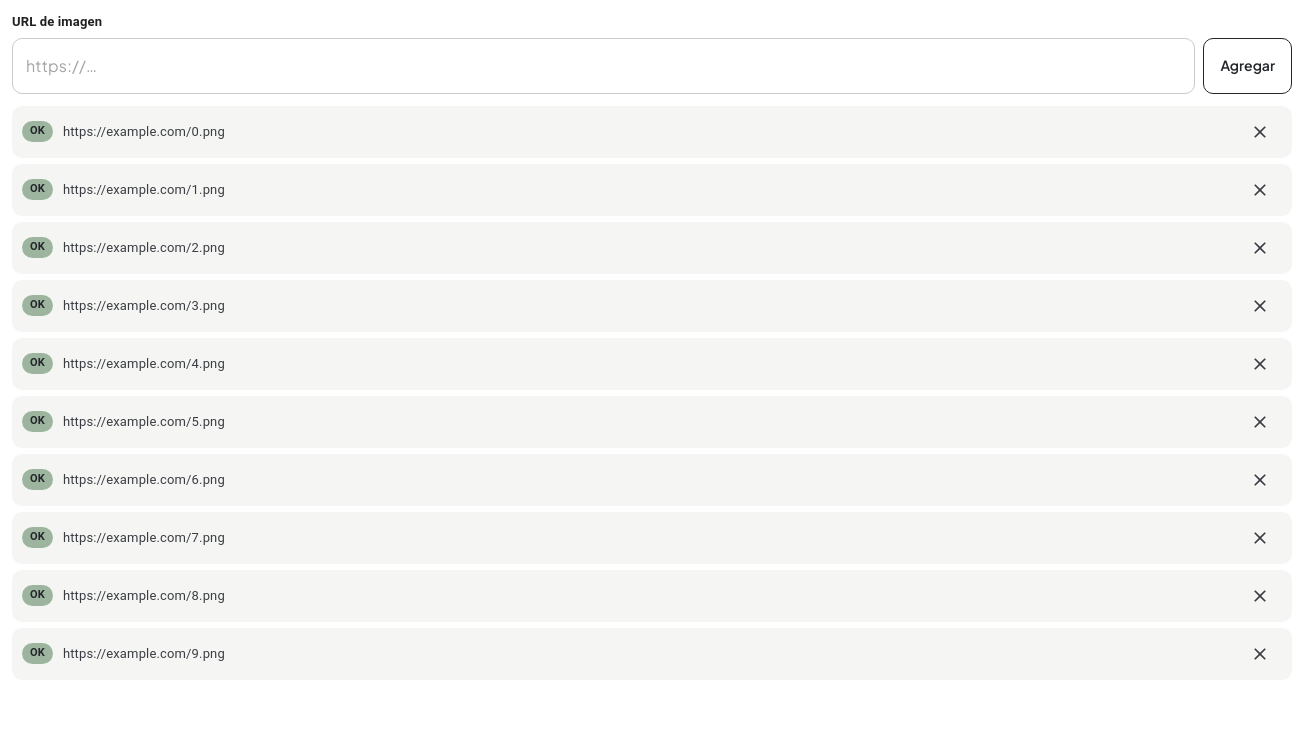
Test: ImageUrlsField › rejects an eleventh url
The image size is (1304, 732).
Type "https://example.com/extra.png" into the field labelled "URL de imagen" at {"x": 604, "y": 66}, box [12,38,1195,94]
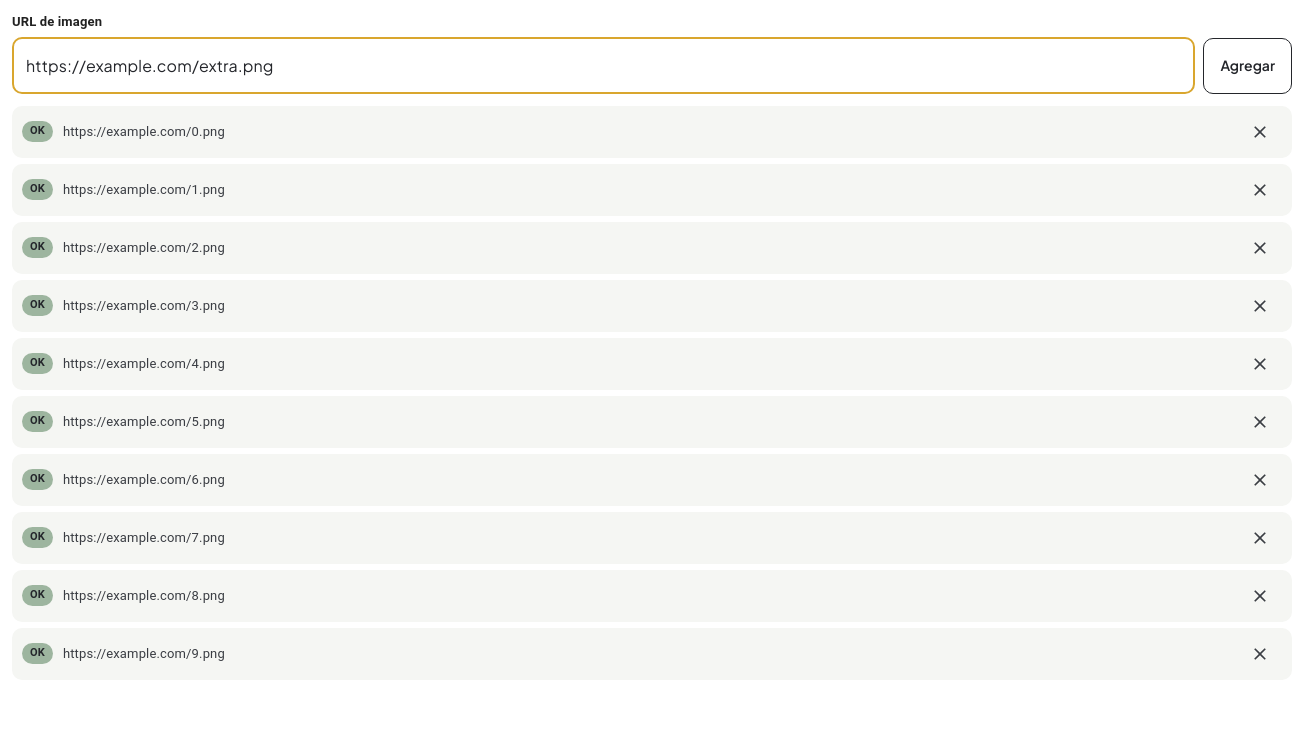
Click the button "Agregar" at {"x": 1248, "y": 66}, box [1203,38,1292,94]
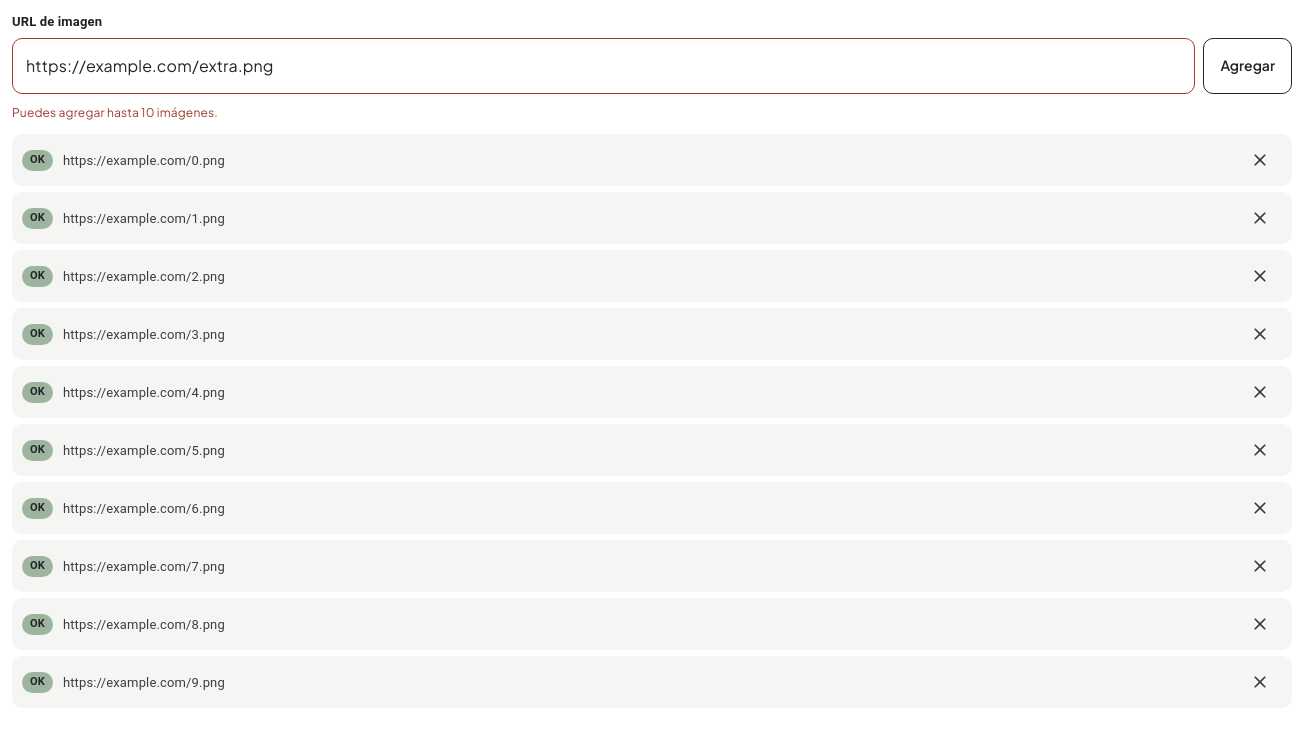
Result: the text "Puedes agregar hasta 10 imágenes." is shown at [12,104,218,120]
